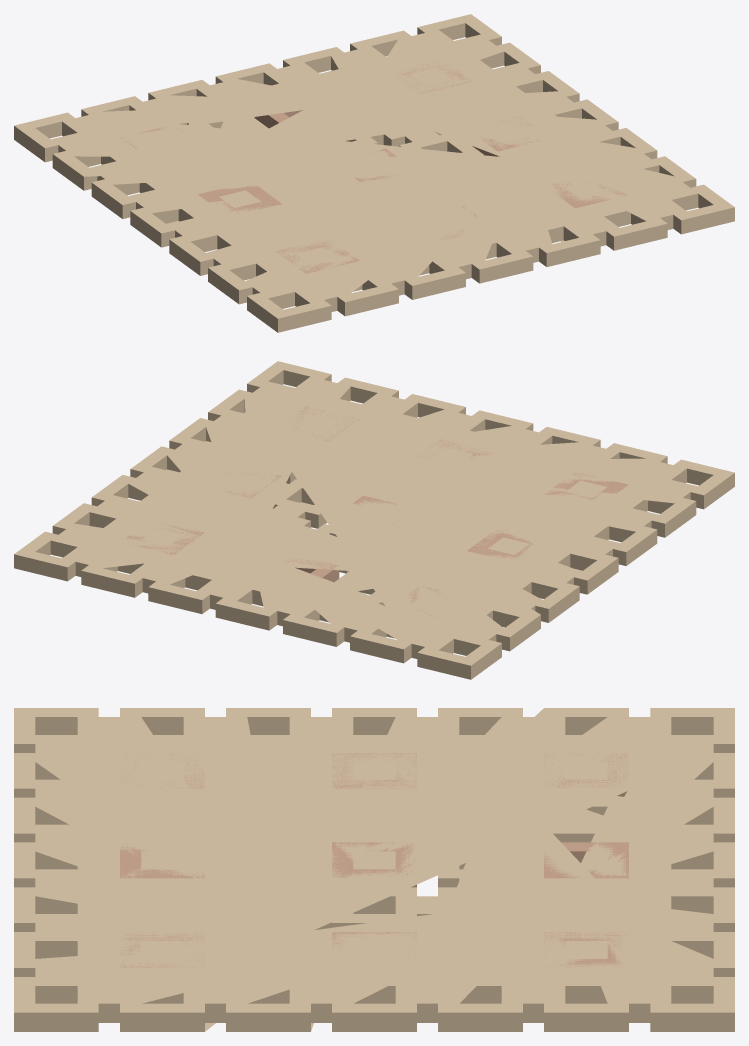
The model's file is BS_Ground_1.fbx.
3 renders of one model, top to bottom at view 1: azimuth 30°, elevation 25°; view 2: azimuth 150°, elevation 25°; view 3: azimuth 270°, elevation 25°, orthographic. The views are drawn at different scales.
Parts seen in each view (by area): view 1: BS_Ground_1; view 2: BS_Ground_1; view 3: BS_Ground_1.
Part boxes in pixels (x1,y1,x2,y2): BS_Ground_1: [14, 14, 734, 332]; BS_Ground_1: [14, 361, 734, 679]; BS_Ground_1: [14, 708, 734, 1031].
Size of the model in its own units: 85 by 85 by 2.5.
